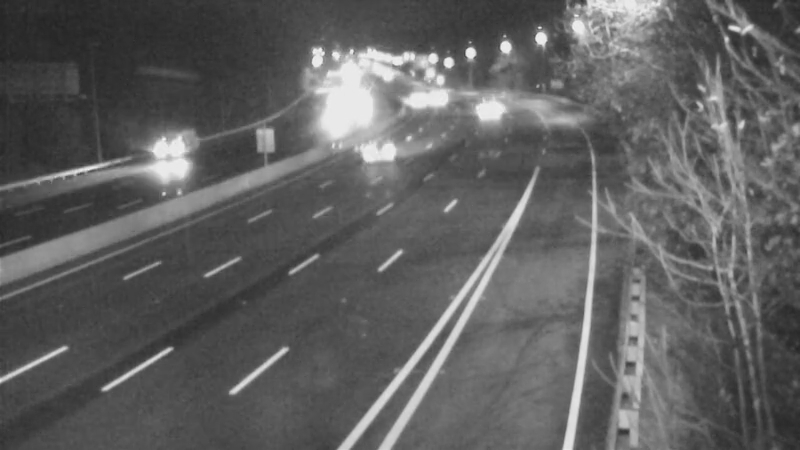vehicle: (339, 112, 419, 192), (415, 71, 465, 121), (390, 79, 440, 129), (462, 82, 512, 132), (144, 124, 194, 174), (304, 99, 354, 149)
